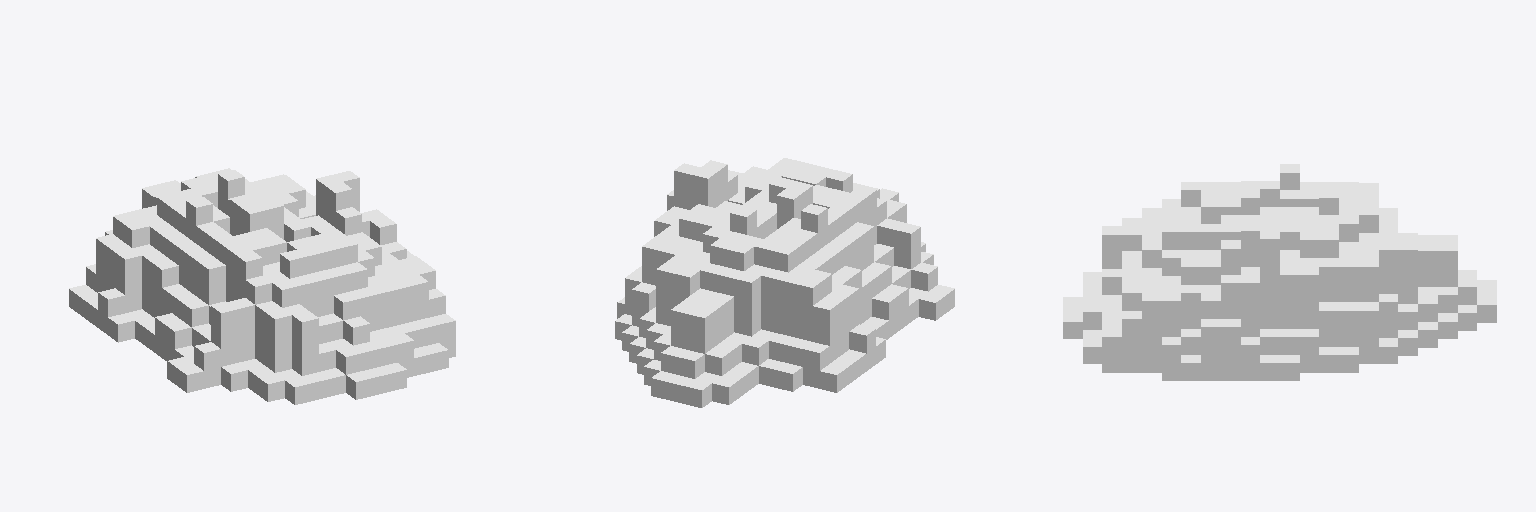
File: Rock-2.obj
The picture shows the model from 3 angles: view 1: azimuth 30°, elevation 25°; view 2: azimuth 150°, elevation 25°; view 3: azimuth 270°, elevation 25°; orthographic projection.
Parts seen in each view (by area): view 1: object 1; view 2: object 1; view 3: object 1.
Part boxes in pixels (left/top/right/bottom): object 1: left=69, top=168, right=455, bottom=404; object 1: left=615, top=158, right=954, bottom=407; object 1: left=1063, top=164, right=1496, bottom=380.
Bounding box in the file's own units: 1.5 × 0.7 × 2.2.